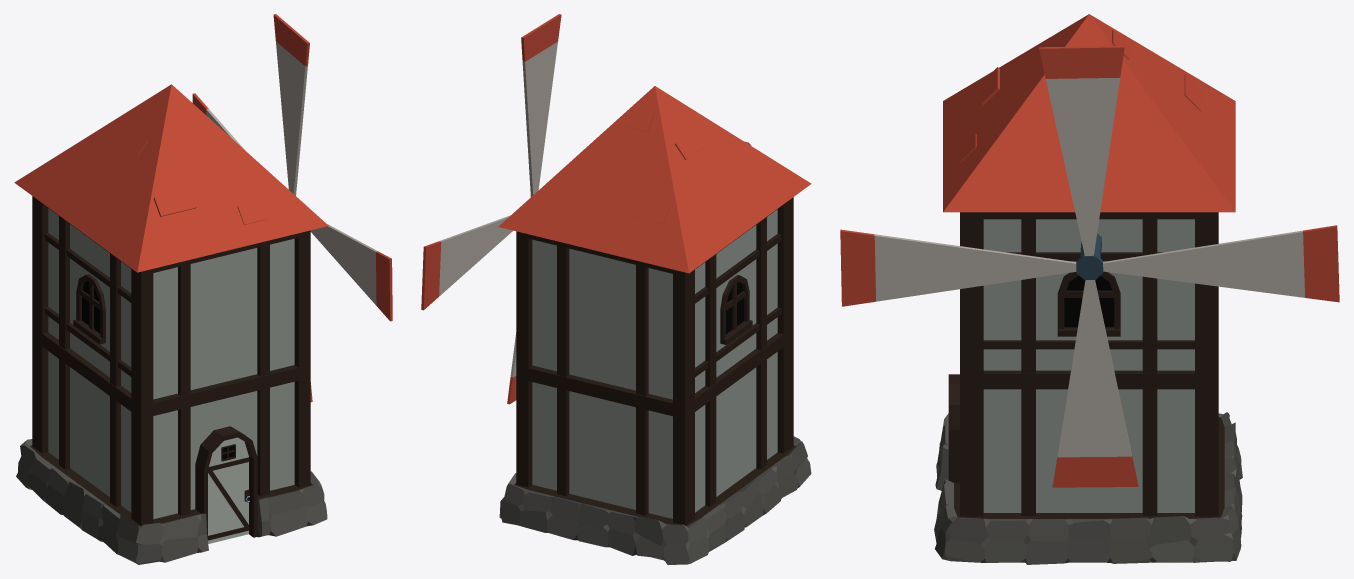
Rendered from Mill_01_A.gltf.
3 renders of one model, left to right at view 1: azimuth 30°, elevation 25°; view 2: azimuth 150°, elevation 25°; view 3: azimuth 270°, elevation 25°, orthographic. The views are drawn at different scales.
Visible parts, largest first — view 1: Mill_01_A, MillSpinner_01_A, MillDoor_01_A; view 2: Mill_01_A, MillSpinner_01_A; view 3: Mill_01_A, MillSpinner_01_A.
Boxes of the visible parts, x1,y1,x2,y2 form: Mill_01_A: [14, 84, 328, 564]; MillSpinner_01_A: [192, 14, 392, 402]; MillDoor_01_A: [208, 437, 249, 543]; Mill_01_A: [498, 86, 811, 564]; MillSpinner_01_A: [421, 14, 561, 404]; Mill_01_A: [934, 14, 1242, 564]; MillSpinner_01_A: [840, 46, 1339, 487].
Size of the model in its own units: 2.44 by 4.52 by 3.86.
